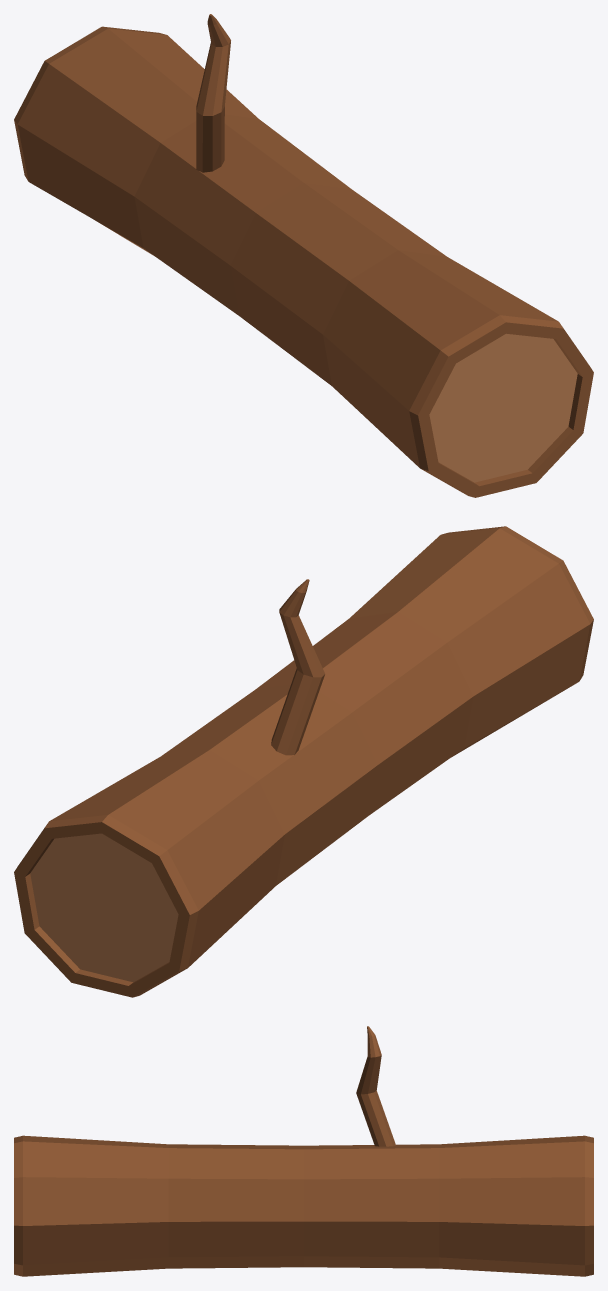
File: LogSlide.fbx
The picture shows the model from 3 angles, top to bottom: view 1: azimuth 30°, elevation 25°; view 2: azimuth 150°, elevation 25°; view 3: azimuth 270°, elevation 25°; orthographic projection. The views are drawn at different scales.
Parts seen in each view (by area): view 1: Cylinder; view 2: Cylinder; view 3: Cylinder.
Boxes of the visible parts, left/top/right/bottom form: Cylinder: left=14, top=14, right=593, bottom=497; Cylinder: left=14, top=526, right=593, bottom=997; Cylinder: left=14, top=1026, right=593, bottom=1276.
Size of the model in its own units: 218 by 356 by 841.
